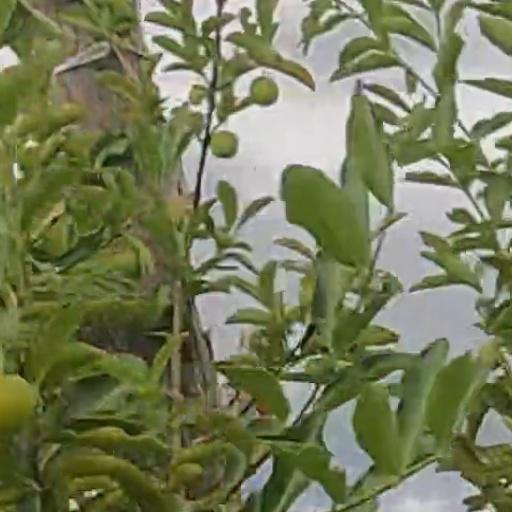acerola: (1, 375, 31, 430), (213, 133, 237, 158), (253, 81, 276, 104)
